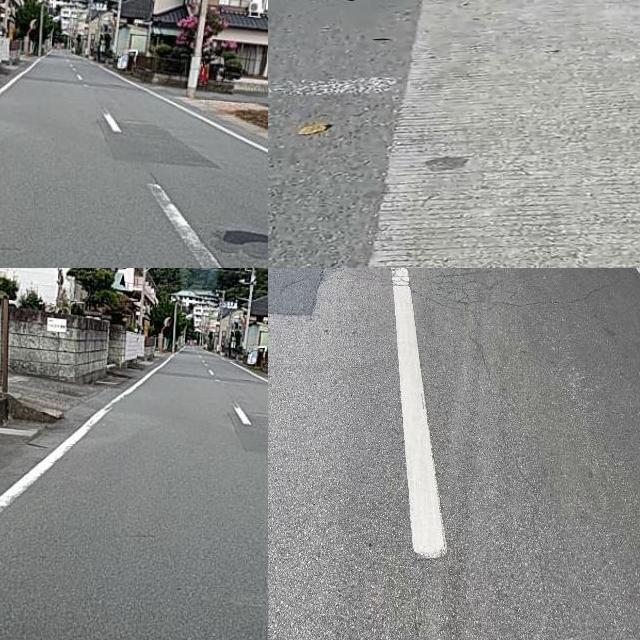Sambungan: (377, 0, 640, 268), (100, 123, 216, 164), (230, 415, 268, 456)
